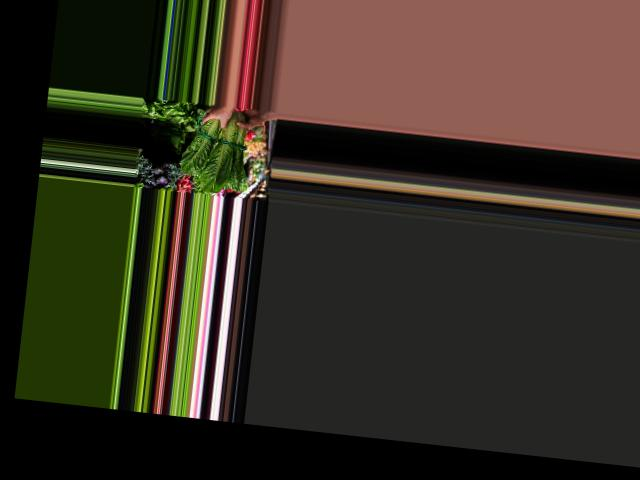lettuce: (176, 100, 252, 192)
